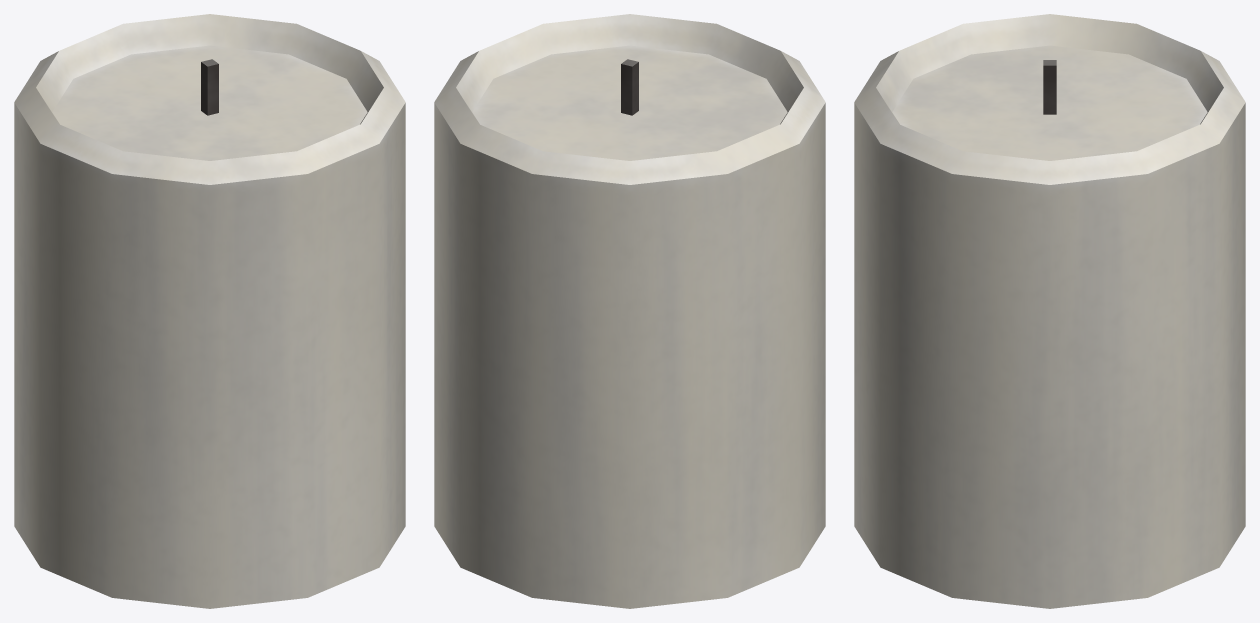
File: Candle.fbx
3 renders of one model, left to right at view 1: azimuth 30°, elevation 25°; view 2: azimuth 150°, elevation 25°; view 3: azimuth 270°, elevation 25°, orthographic.
Visible parts, largest first — view 1: candle; view 2: candle; view 3: candle.
Part boxes in pixels (left/top/right/bottom): candle: left=14, top=14, right=405, bottom=608; candle: left=434, top=14, right=825, bottom=608; candle: left=854, top=14, right=1245, bottom=608.
Size of the model in its own units: 0.072 by 0.094 by 0.072.
1 material, 1 textured.
